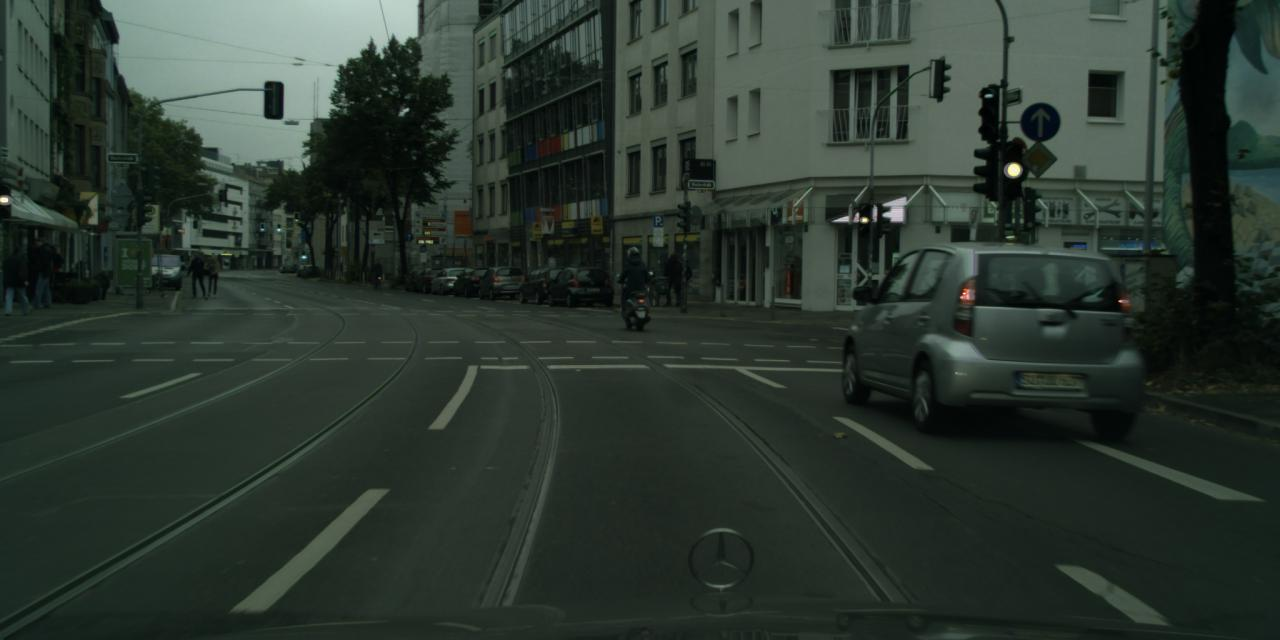ped: (25, 238, 54, 309), (4, 246, 31, 314), (622, 247, 648, 312), (663, 252, 683, 304), (672, 254, 692, 305), (188, 251, 206, 297), (203, 254, 221, 297), (372, 257, 382, 285)
